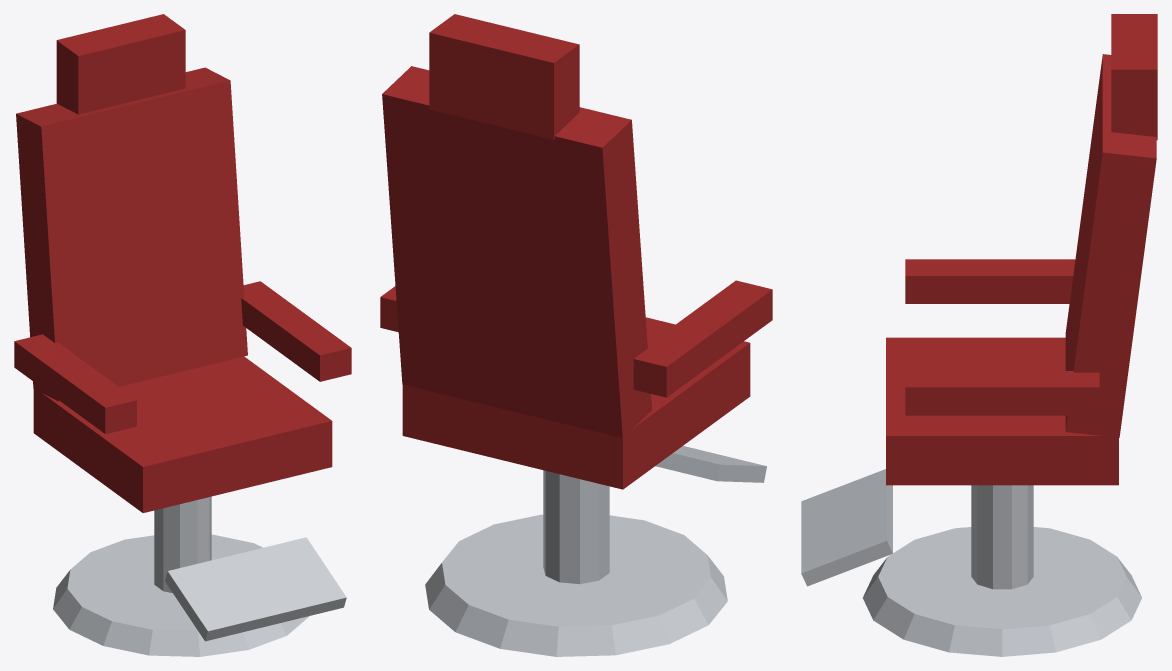
Rendered from exam_chair.glb.
3 views of the same model, side by side, from view 1: azimuth 30°, elevation 25°; view 2: azimuth 150°, elevation 25°; view 3: azimuth 270°, elevation 25° (orthographic). The views are drawn at different scales.
Visible parts, largest first — view 1: back_exam_red, seat_exam_red, foot_carousel_chrome, arm_exam_red, footrest_carousel_chrome, head_exam_red, column_carousel_chrome; view 2: back_exam_red, foot_carousel_chrome, seat_exam_red, head_exam_red, arm_exam_red, column_carousel_chrome, footrest_carousel_chrome; view 3: foot_carousel_chrome, seat_exam_red, back_exam_red, arm_exam_red, footrest_carousel_chrome, column_carousel_chrome, head_exam_red.
Part boxes in pixels (bbox=[...]): back_exam_red: bbox=[16, 67, 247, 401]; seat_exam_red: bbox=[33, 356, 332, 512]; foot_carousel_chrome: bbox=[53, 534, 309, 656]; arm_exam_red: bbox=[14, 281, 351, 434]; footrest_carousel_chrome: bbox=[165, 537, 346, 641]; head_exam_red: bbox=[56, 14, 185, 114]; column_carousel_chrome: bbox=[154, 496, 211, 592]; back_exam_red: bbox=[382, 66, 651, 437]; foot_carousel_chrome: bbox=[425, 514, 727, 656]; seat_exam_red: bbox=[402, 317, 750, 489]; head_exam_red: bbox=[429, 14, 579, 139]; arm_exam_red: bbox=[380, 280, 772, 397]; column_carousel_chrome: bbox=[543, 470, 609, 584]; footrest_carousel_chrome: bbox=[655, 446, 766, 482]; foot_carousel_chrome: bbox=[863, 527, 1141, 656]; seat_exam_red: bbox=[886, 337, 1118, 485]; back_exam_red: bbox=[1065, 54, 1156, 437]; arm_exam_red: bbox=[905, 259, 1099, 415]; footrest_carousel_chrome: bbox=[801, 469, 892, 586]; column_carousel_chrome: bbox=[971, 485, 1033, 589]; head_exam_red: bbox=[1111, 14, 1157, 140].
Bounding box in the file's own units: 0.78 × 1.58 × 0.9183.
